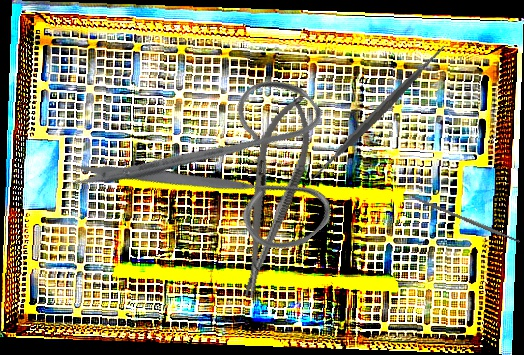Iris Scissors: (64, 19, 380, 333)
Needle Holder: (222, 89, 323, 304)
Scalpel Handle: (410, 194, 521, 245)
Spatula Surgical: (300, 34, 456, 191)
